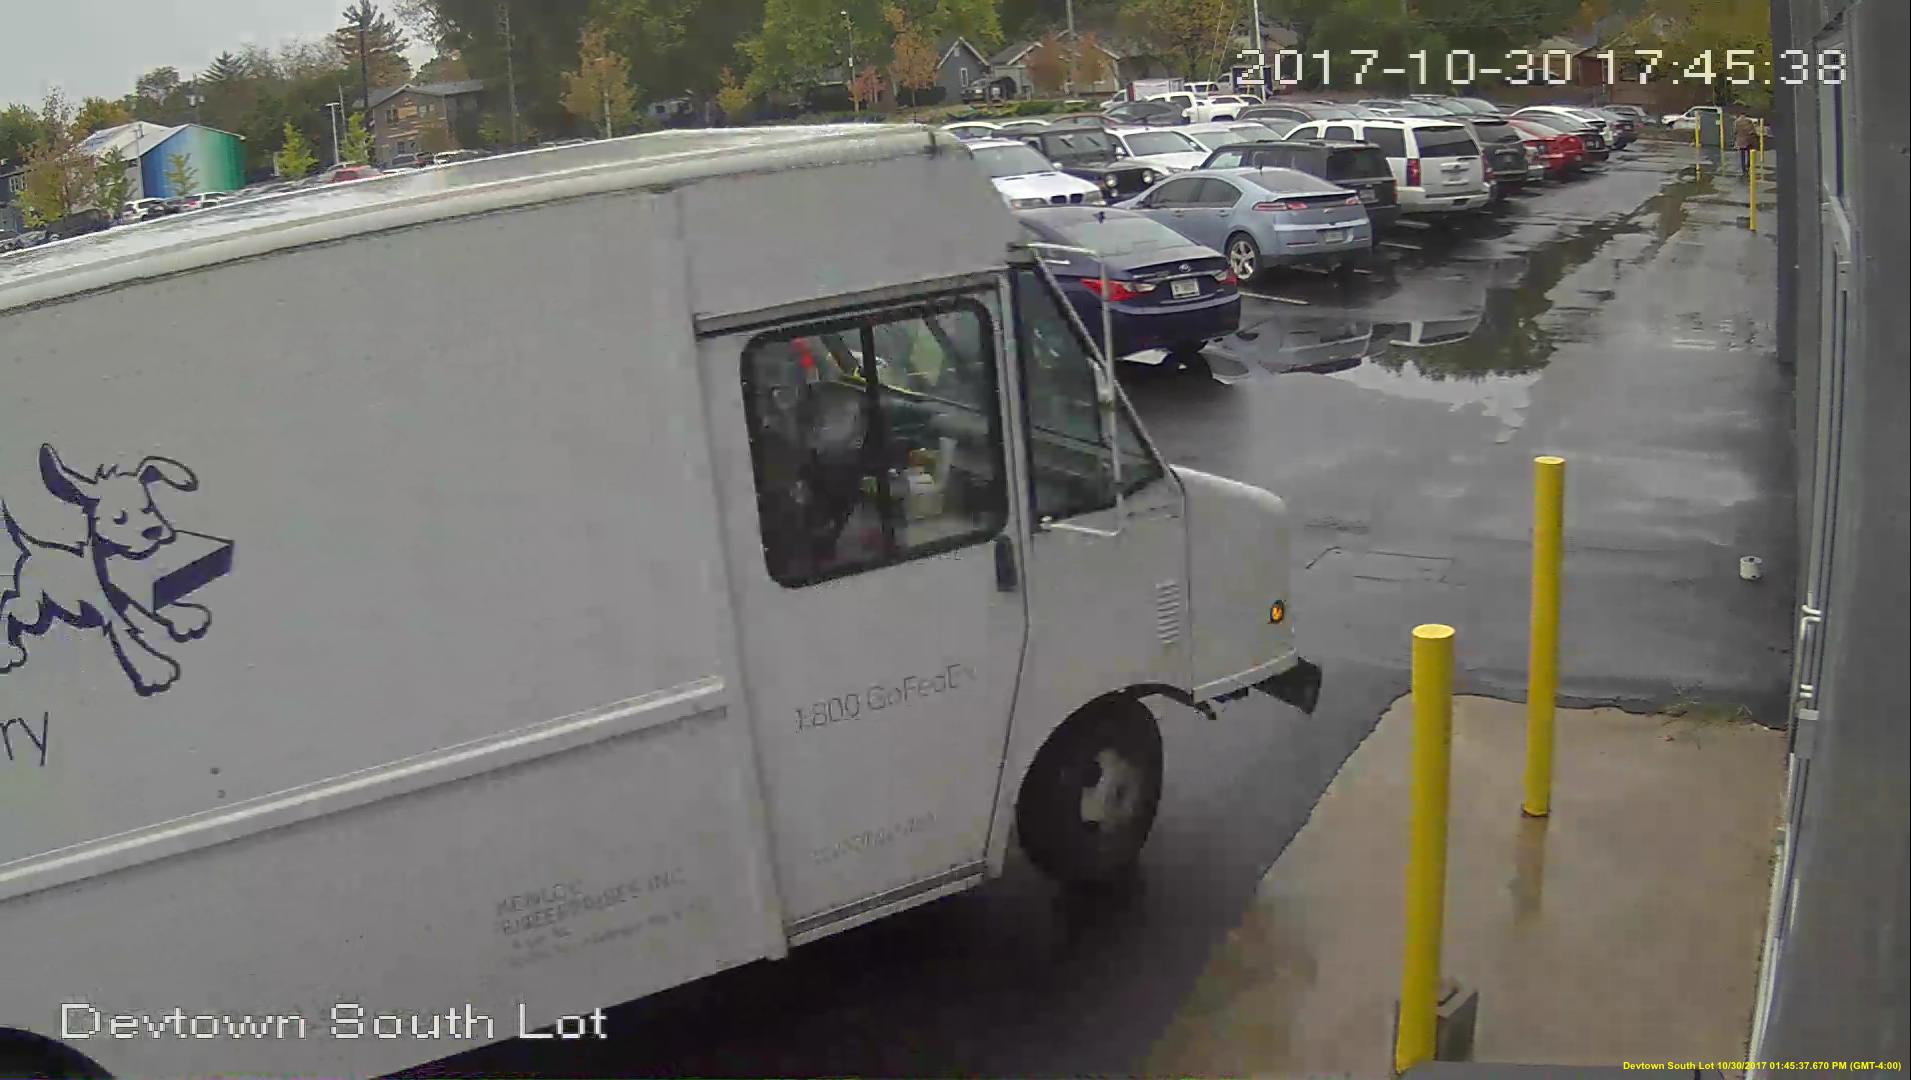fedex_truck: (4, 122, 1299, 1077)
